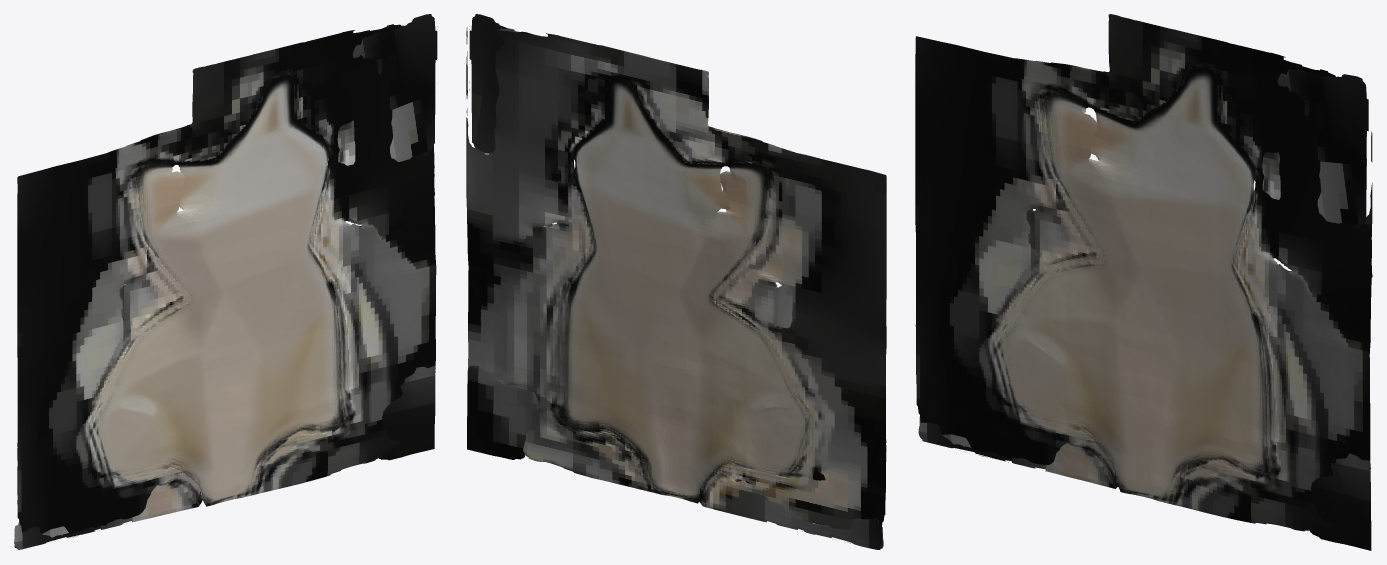
File: cat_1772489638658.glb
3 renders of one model, left to right at view 1: azimuth 30°, elevation 25°; view 2: azimuth 150°, elevation 25°; view 3: azimuth 330°, elevation 25°, orthographic. The views are drawn at different scales.
Visible parts, largest first — view 1: world; view 2: world; view 3: world.
Boxes of the visible parts, <box> form: world: <box>14,14,437,549</box>; world: <box>466,14,886,550</box>; world: <box>915,14,1372,550</box>.
Bounding box in the file's own units: 1 × 1 × 0.0163.
Materials: 1 (1 with a texture image).
